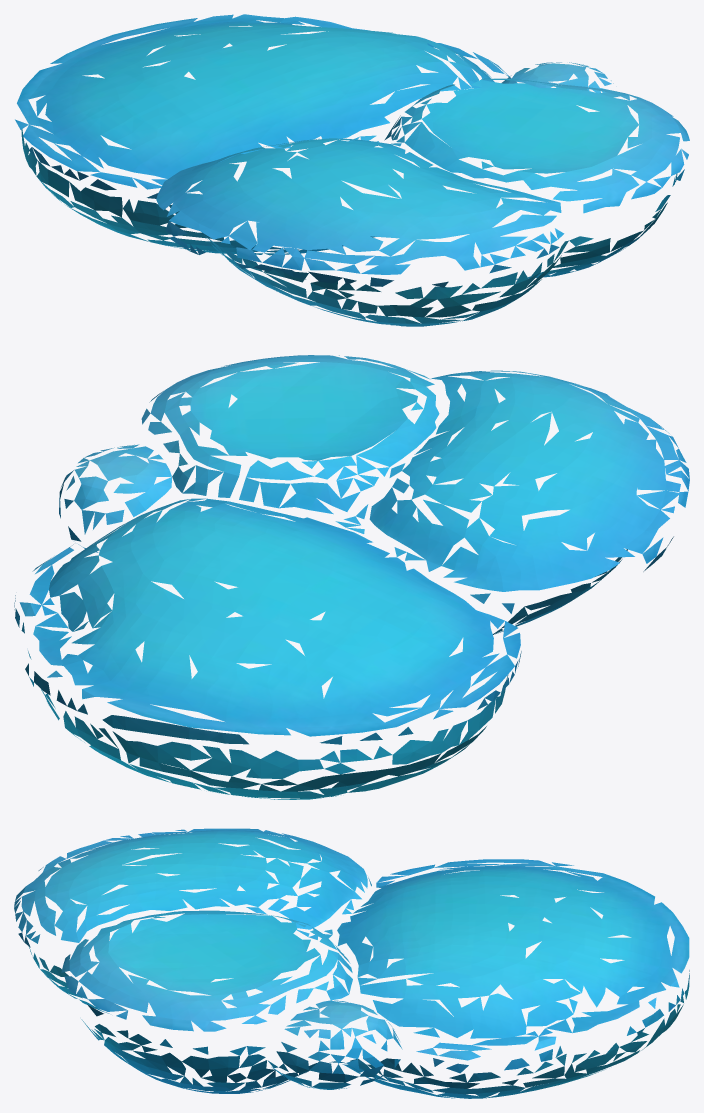
File: bubble_floor.glb
3 renders of one model, top to bottom at view 1: azimuth 30°, elevation 25°; view 2: azimuth 150°, elevation 25°; view 3: azimuth 270°, elevation 25°, orthographic. The views are drawn at different scales.
Parts seen in each view (by area): view 1: world.001; view 2: world.001; view 3: world.001.
Part boxes in pixels (x1=…): world.001: x1=15, y1=14, x2=689, y2=326; world.001: x1=14, y1=355, x2=689, y2=799; world.001: x1=14, y1=828, x2=689, y2=1098.
Size of the model in its own units: 0.7652 by 0.2687 by 1.
1 material, 1 textured.
